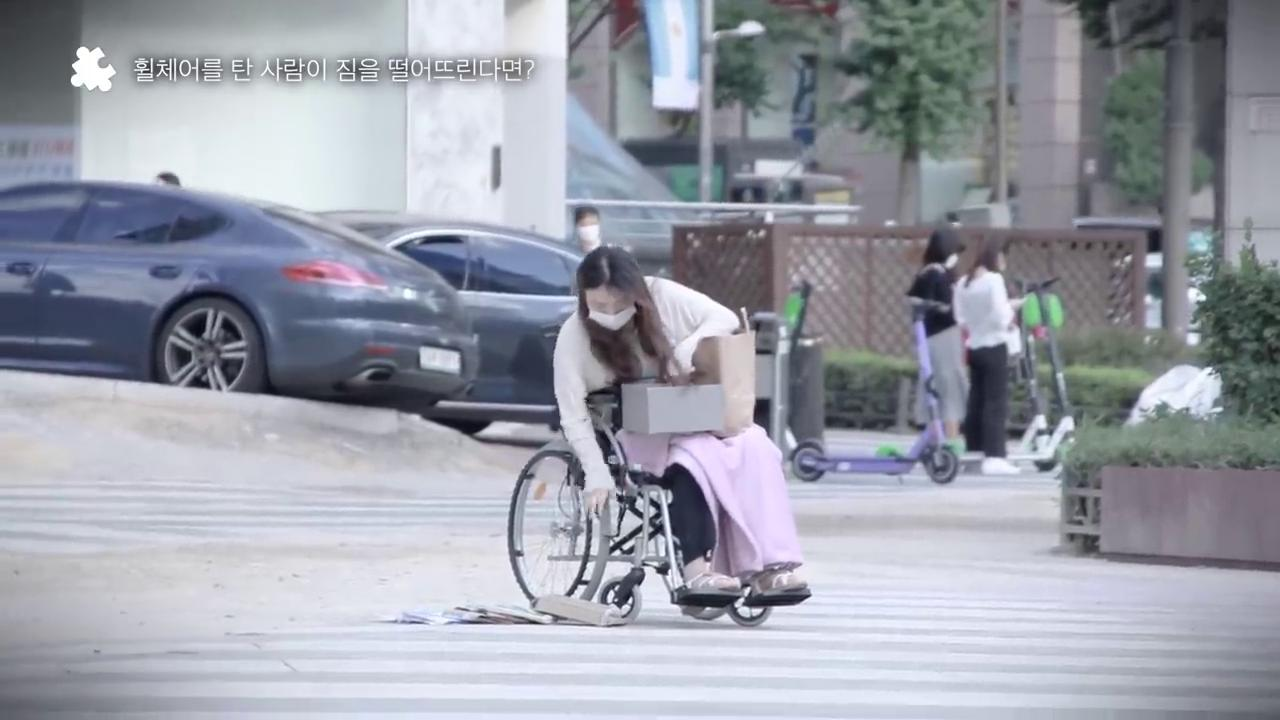wheelchair: (507, 248, 812, 629)
